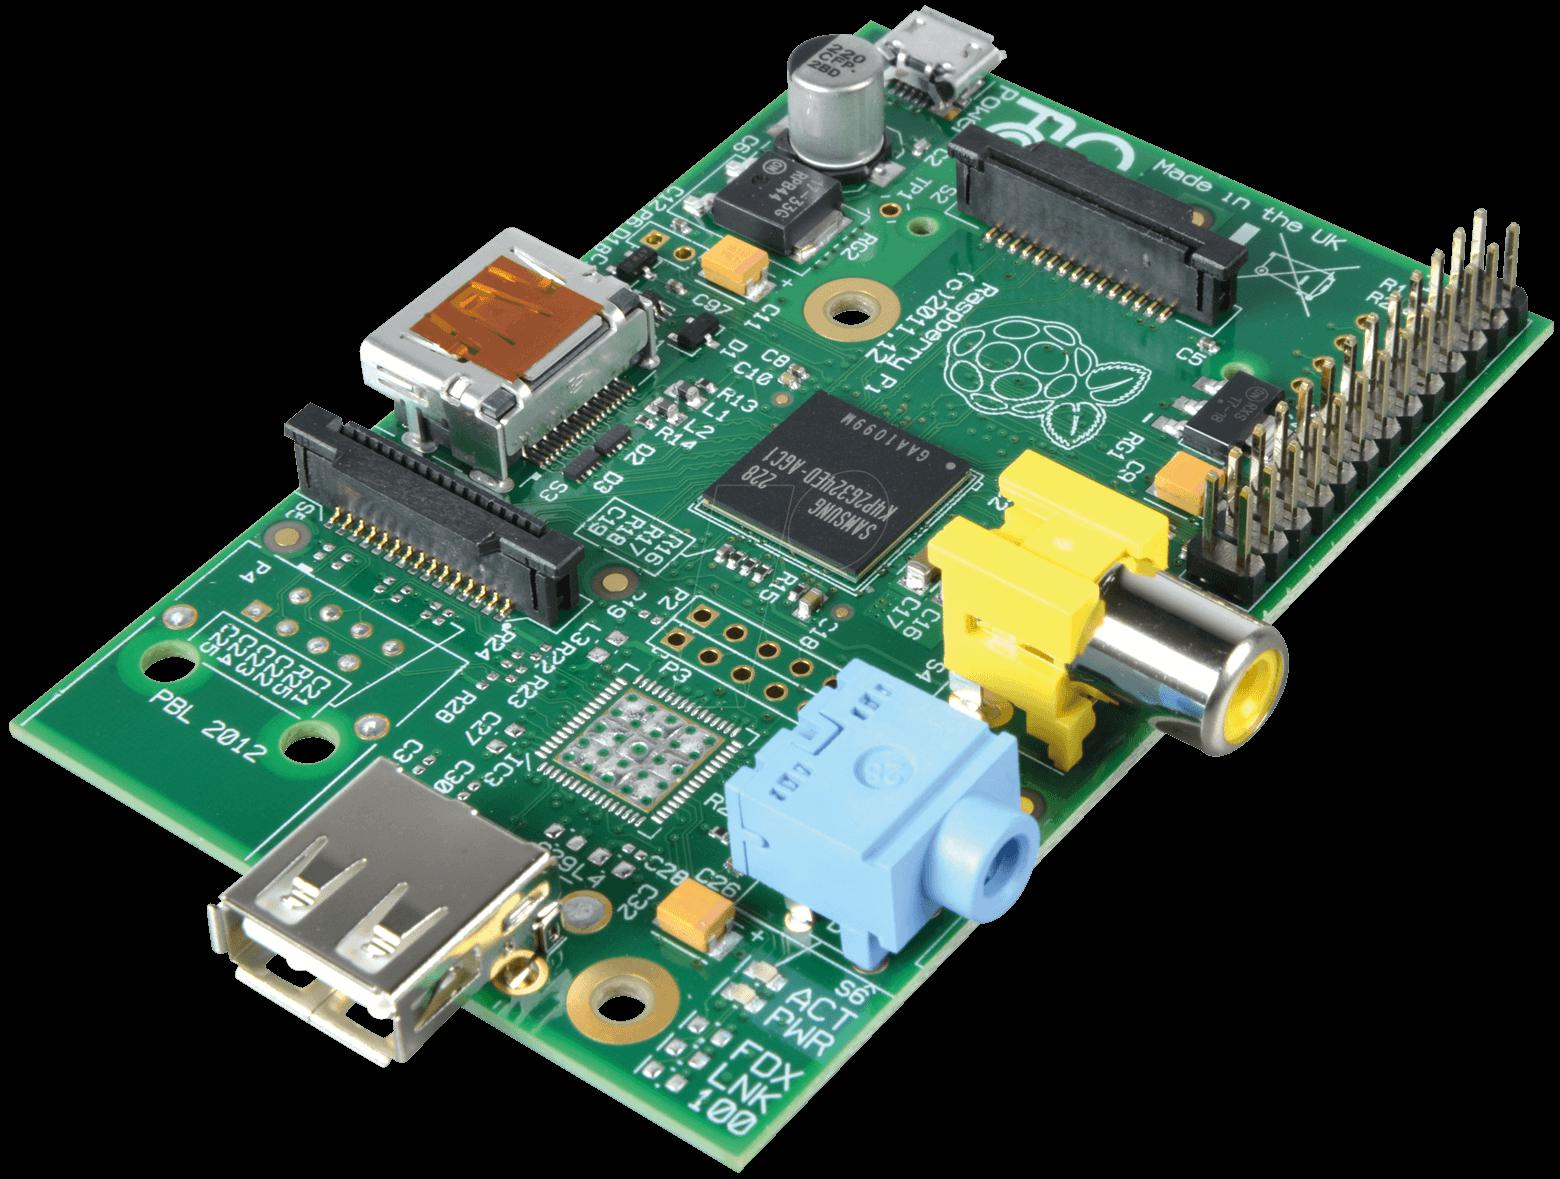audiojack: (930, 447, 1316, 781)
bchi: (693, 386, 969, 573)
gpio: (1186, 214, 1535, 516)
usb: (210, 757, 558, 1060)
